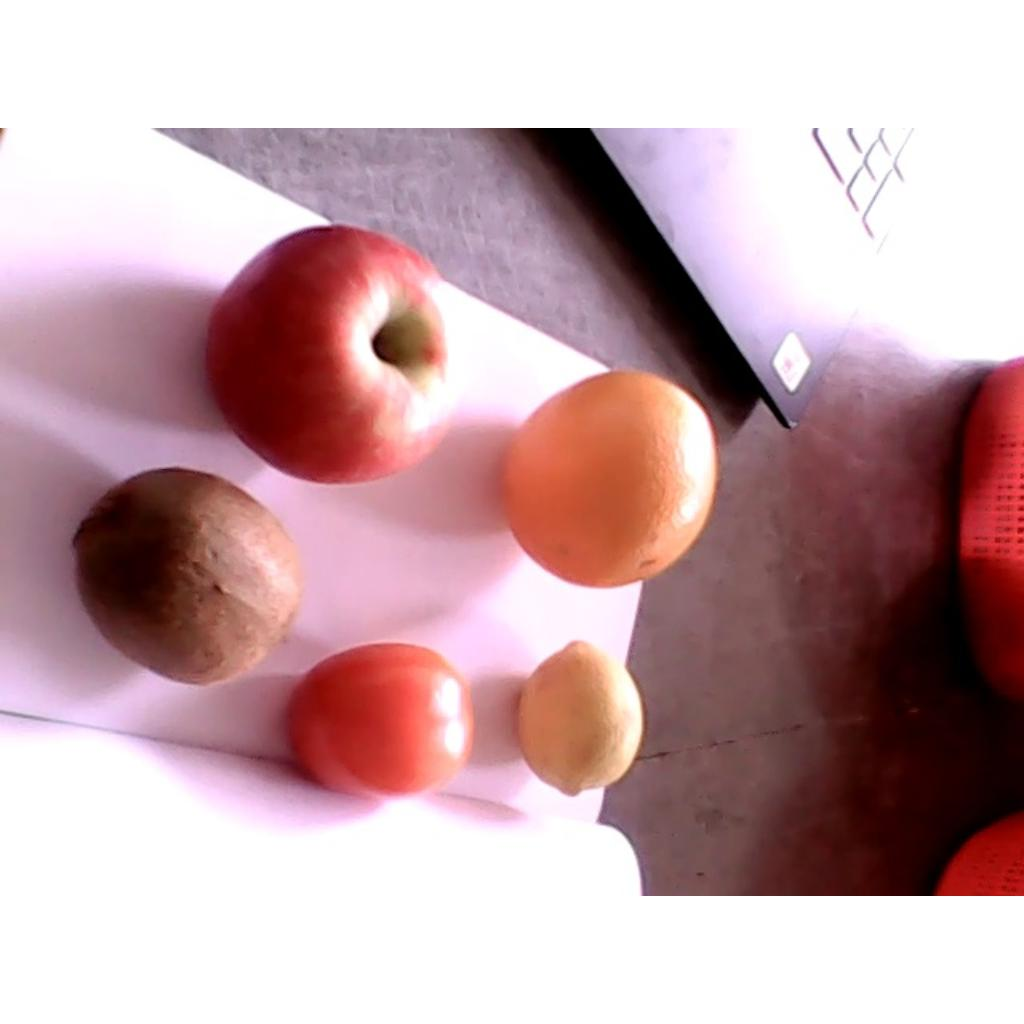apple: (207, 227, 460, 484)
kiwi: (74, 472, 305, 685)
lemon: (517, 640, 644, 795)
orange: (501, 371, 719, 589)
tomato: (289, 642, 473, 799)
